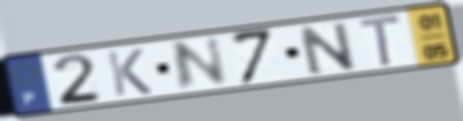2: (50, 52, 104, 107)
7: (230, 27, 278, 89)
K: (103, 47, 155, 98)
N: (295, 19, 360, 78), (169, 34, 231, 94)
T: (355, 12, 404, 70)
